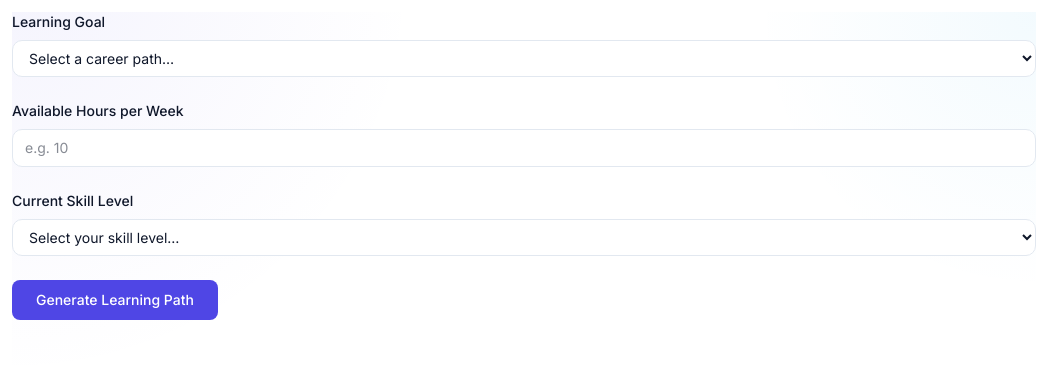
Test: PathGeneratorPage validation messages › shows an error when no goal is selected (Req 10.4)
Fill hours and skill but leave goal empty
In the number field labelled "Available Hours per Week": (524, 148) [12,129,1036,167], type "10"
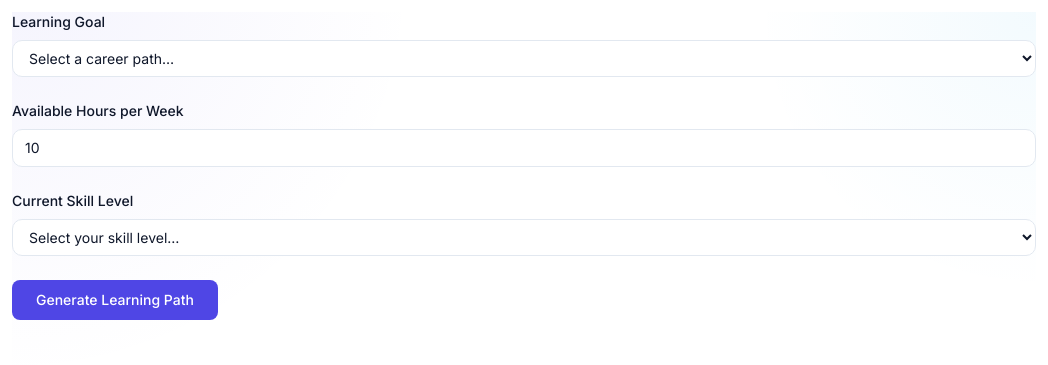
Select "Beginner" in the dropdown labelled "Current Skill Level": (524, 238) [12,219,1036,256]
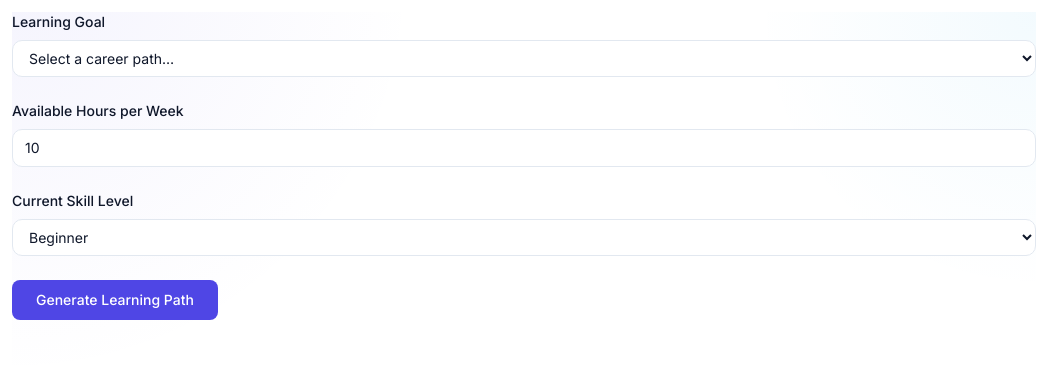
Click the button "Generate Learning Path": (115, 300) [12,280,218,320]
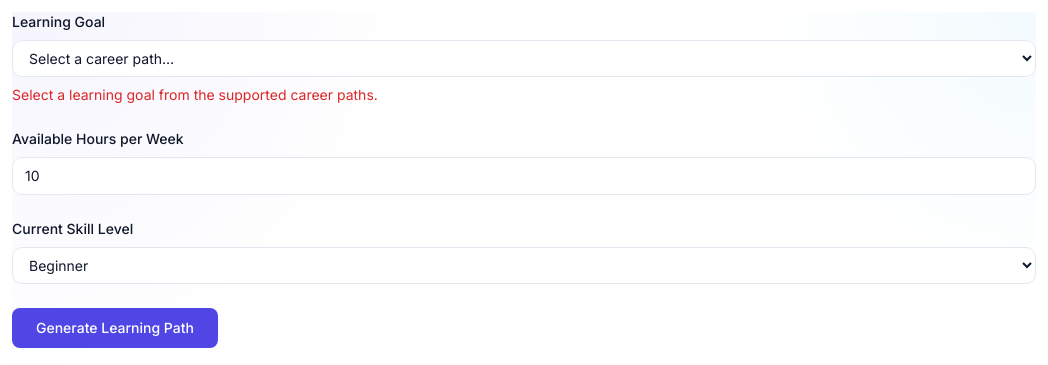
Check: the text "Select a learning goal from the supported career paths." is shown, box [12,86,378,103]
